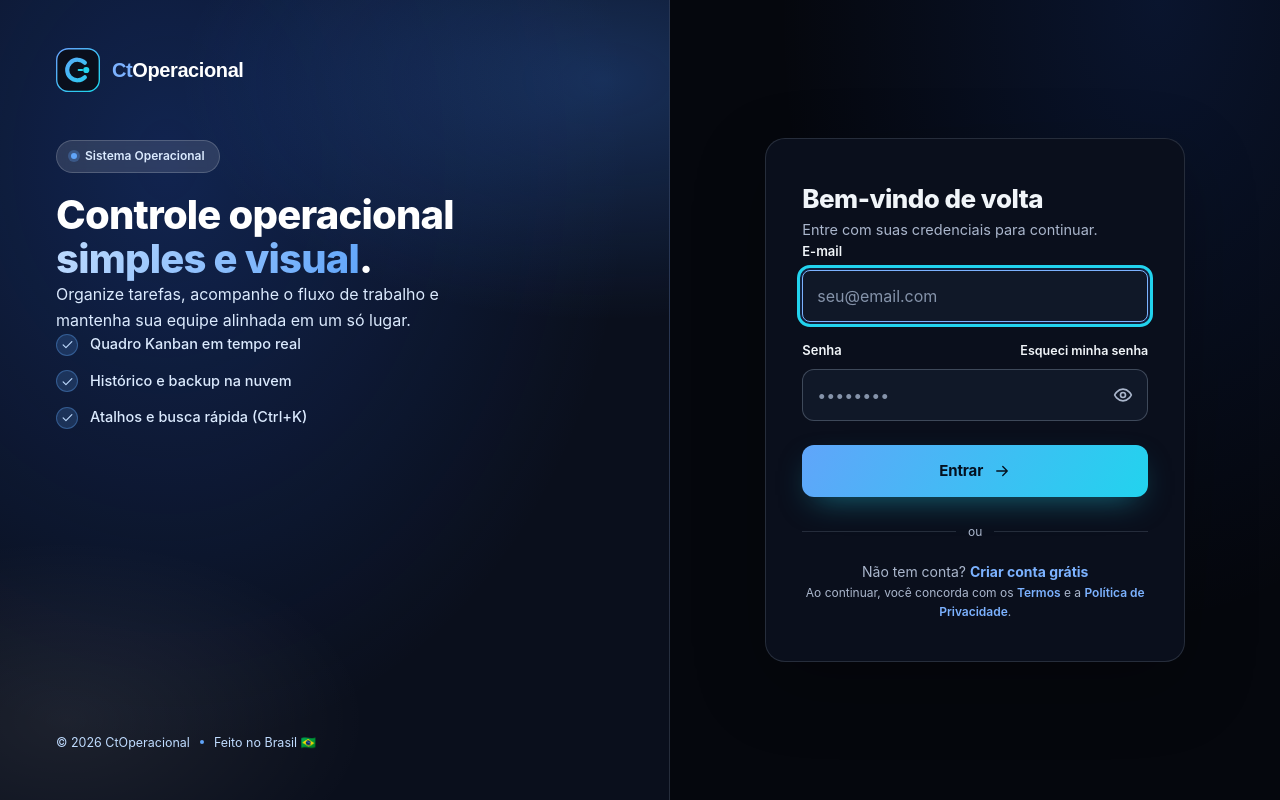
acesso e formulários › envia credenciais e entra no dashboard
In the field labelled "E-mail": (975, 296) [802, 270, 1148, 322], type "ana@teste.com"
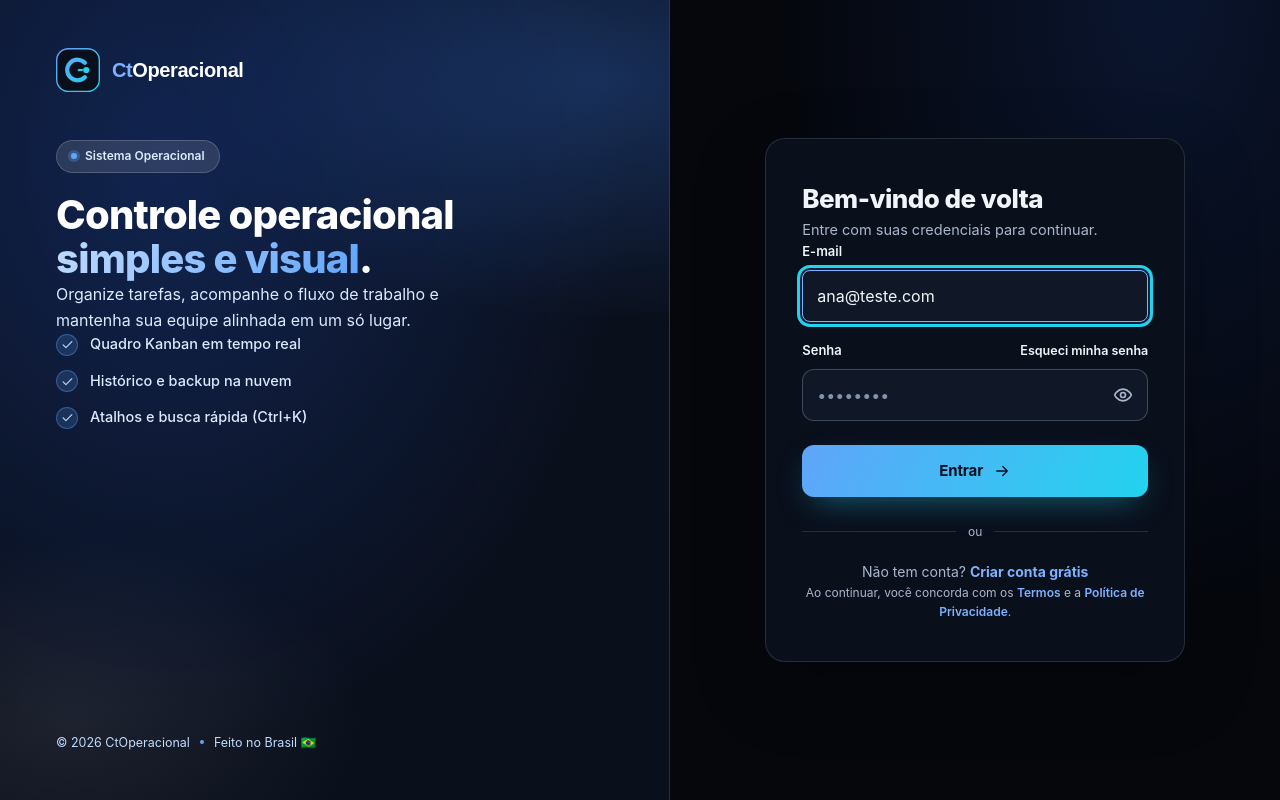
In the password field labelled "Senha": (975, 395) [802, 369, 1148, 421], type "123456"
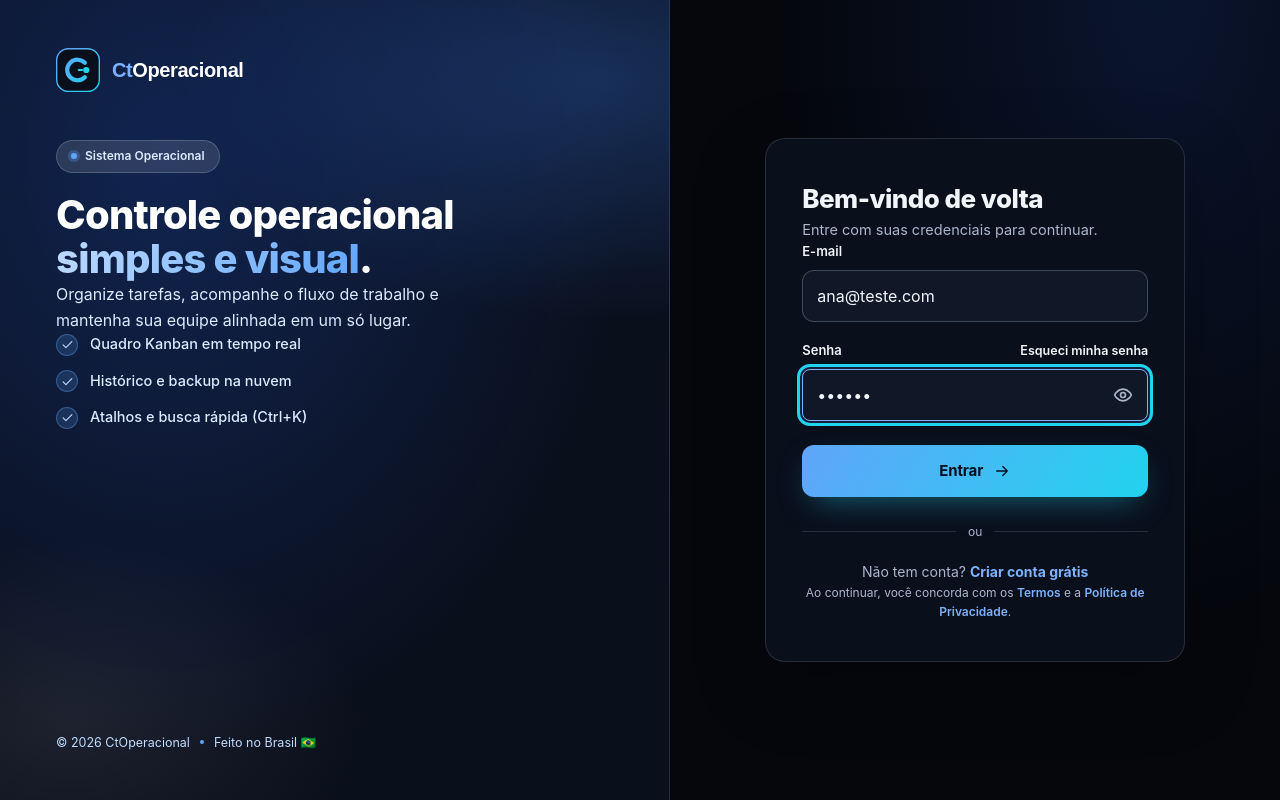
Click the button "Entrar": (975, 471) [802, 445, 1148, 497]
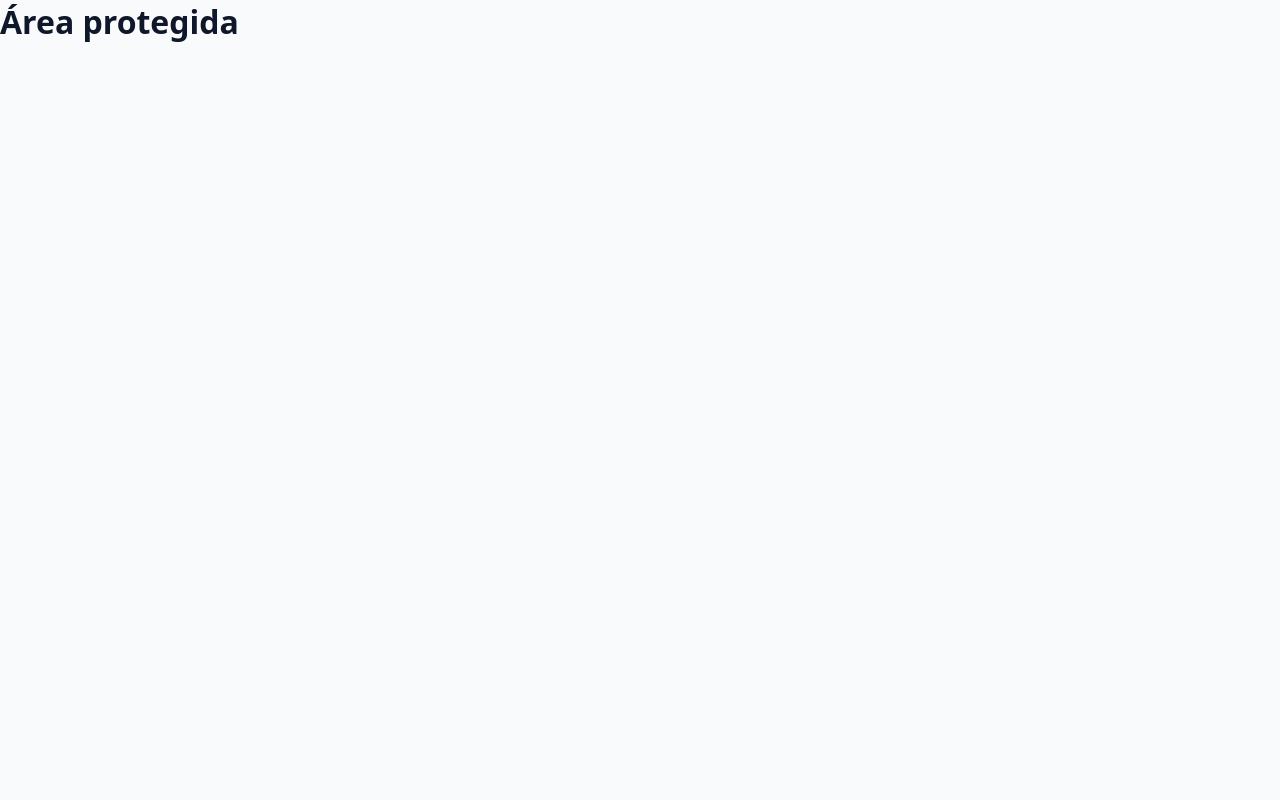
Check: the heading "Área protegida" is shown, box [0, 0, 239, 43]
